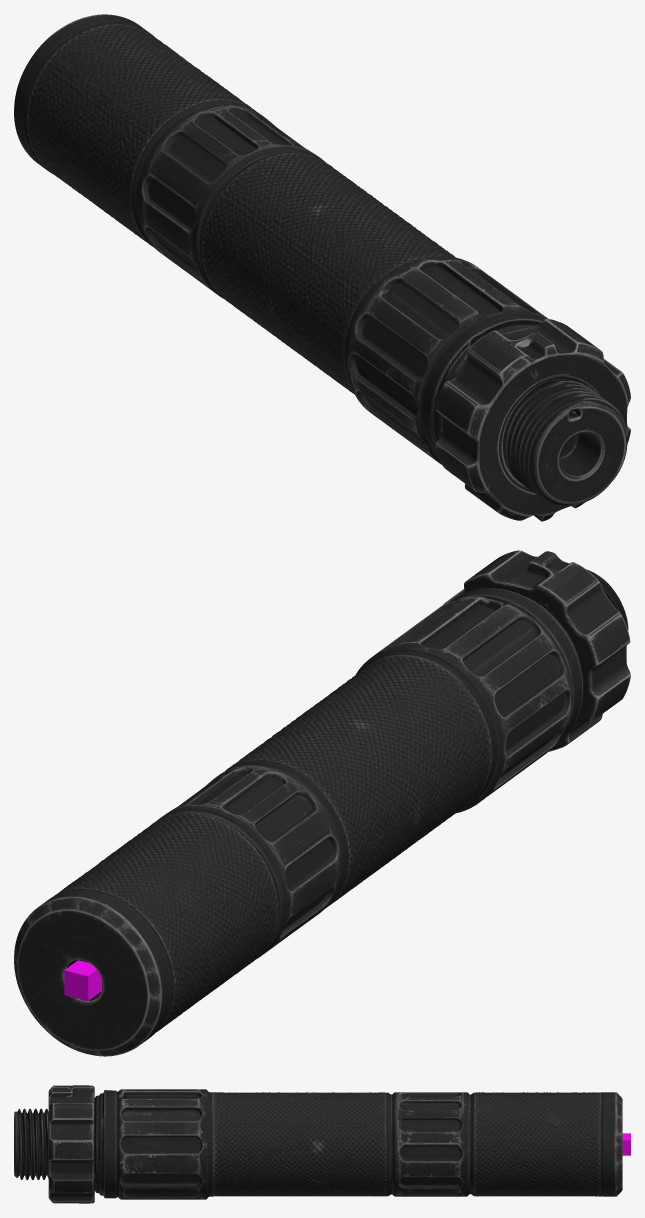
The model's file is Suppressor_DMR.glb.
3 views of the same model, one above another, from view 1: azimuth 30°, elevation 25°; view 2: azimuth 150°, elevation 25°; view 3: azimuth 270°, elevation 25° (orthographic). The views are drawn at different scales.
Visible parts, largest first — view 1: Suppressor_30, Suppressor_13, Suppressor_39, Suppressor_43, Suppressor_37, Suppressor_29, Suppressor_12, Suppressor_01, Suppressor_31, Suppressor_38, Suppressor_11, Suppressor_06 (+29 smaller); view 2: Suppressor_01, Suppressor_30, Suppressor_13, Suppressor_37, Suppressor_12, Suppressor_29, Suppressor_28, Suppressor_34, Suppressor_31, Suppressor_07, Suppressor_04, Suppressor_23 (+24 smaller); view 3: Suppressor_30, Suppressor_13, Suppressor_37, Suppressor_29, Suppressor_01, Suppressor_12, Suppressor_31, Suppressor_06, Suppressor_28, Suppressor_04, Suppressor_07, Suppressor_20 (+32 smaller).
Boxes of the visible parts, x1,y1,x2,y2 form: Suppressor_30: [365, 266, 546, 461]; Suppressor_13: [146, 115, 321, 298]; Suppressor_39: [477, 352, 628, 516]; Suppressor_43: [527, 397, 627, 505]; Suppressor_37: [440, 323, 630, 520]; Suppressor_29: [346, 256, 495, 425]; Suppressor_12: [136, 104, 280, 262]; Suppressor_01: [14, 14, 152, 174]; Suppressor_31: [416, 307, 547, 464]; Suppressor_38: [469, 343, 630, 521]; Suppressor_11: [123, 95, 255, 248]; Suppressor_06: [71, 56, 207, 209]; Suppressor_01: [14, 886, 177, 1056]; Suppressor_30: [392, 596, 571, 786]; Suppressor_13: [182, 764, 343, 941]; Suppressor_37: [452, 550, 630, 737]; Suppressor_12: [157, 795, 303, 958]; Suppressor_29: [358, 630, 525, 813]; Suppressor_28: [356, 647, 501, 812]; Suppressor_34: [443, 573, 598, 751]; Suppressor_31: [446, 588, 583, 742]; Suppressor_07: [106, 840, 240, 994]; Suppressor_04: [75, 863, 207, 1018]; Suppressor_23: [310, 689, 446, 843]; Suppressor_30: [121, 1089, 203, 1199]; Suppressor_13: [394, 1092, 454, 1196]; Suppressor_37: [50, 1085, 92, 1203]; Suppressor_29: [158, 1089, 206, 1199]; Suppressor_01: [597, 1092, 622, 1196]; Suppressor_12: [436, 1092, 470, 1196]; Suppressor_31: [104, 1089, 121, 1199]; Suppressor_06: [533, 1092, 547, 1196]; Suppressor_28: [206, 1090, 220, 1198]; Suppressor_04: [559, 1092, 573, 1196]; Suppressor_07: [520, 1092, 534, 1196]; Suppressor_20: [306, 1092, 320, 1196].
Bounding box in the file's own units: 0.2056 × 0.2116 × 1.1.
Materials: 2 (1 with a texture image).
